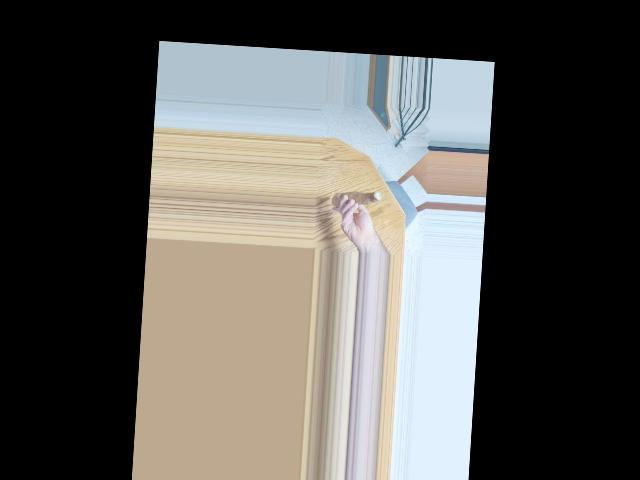sweet_potato: (331, 189, 386, 208)
